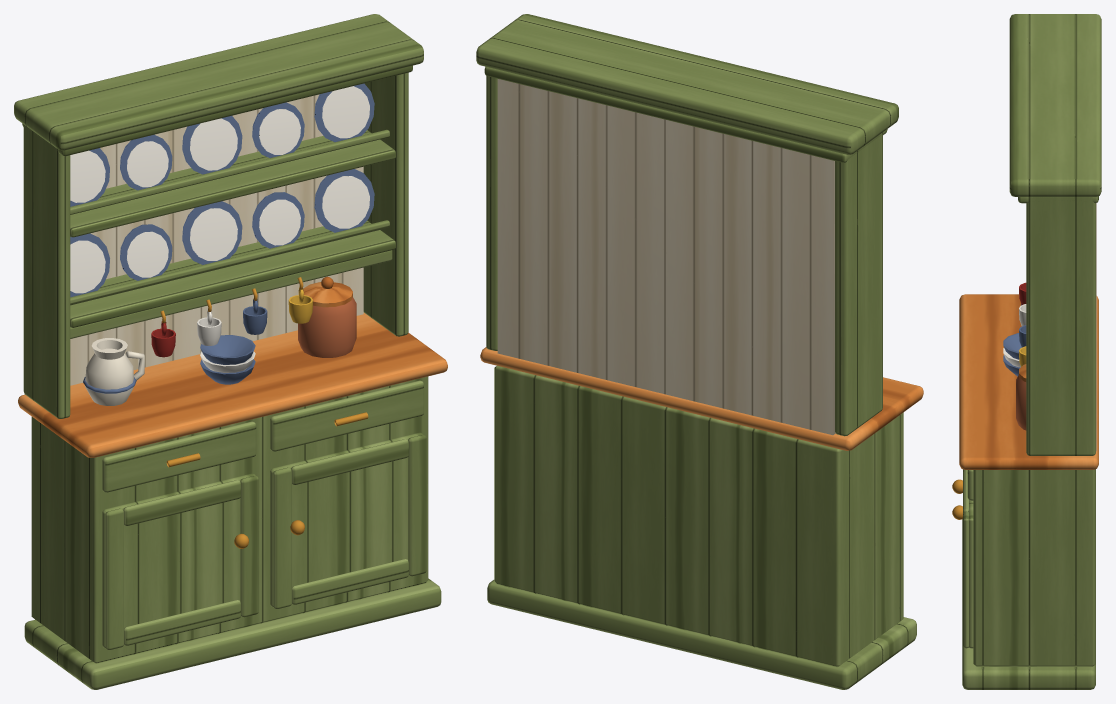
The model's file is kitchen_dresser.glb.
3 renders of one model, left to right at view 1: azimuth 30°, elevation 25°; view 2: azimuth 150°, elevation 25°; view 3: azimuth 270°, elevation 25°, orthographic. The views are drawn at different scales.
Parts seen in each view (by area): view 1: model; view 2: model; view 3: model.
Boxes of the visible parts, x1,y1,x2,y2 form: model: (14, 14, 447, 689); model: (476, 14, 923, 689); model: (952, 14, 1101, 689).
Size of the model in its own units: 1.44 by 2.03 by 0.5353.
Materials: 10 (3 with a texture image).
